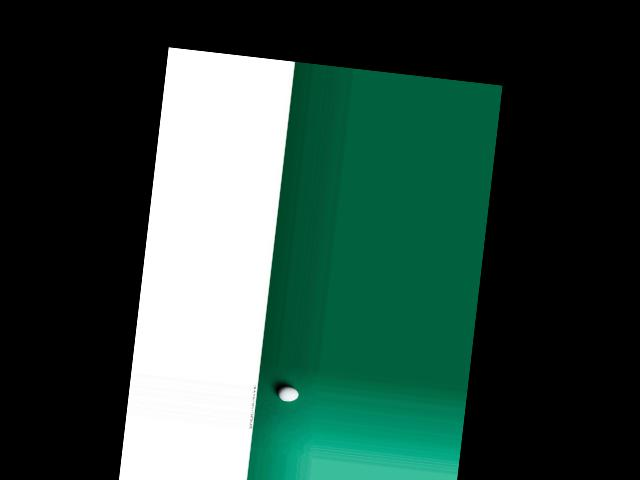egg: (277, 386, 298, 403)
